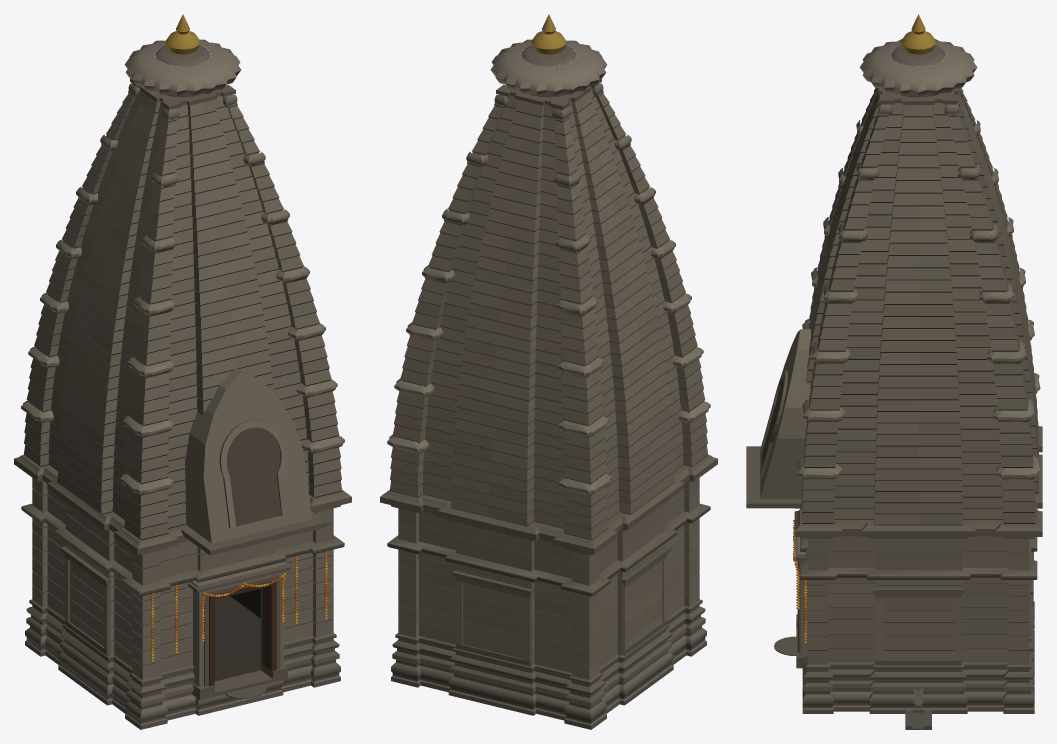
The model's file is shrine.glb.
3 views of the same model, side by side, from view 1: azimuth 30°, elevation 25°; view 2: azimuth 150°, elevation 25°; view 3: azimuth 270°, elevation 25° (orthographic).
Parts seen in each view (by area): view 1: shrine; view 2: shrine; view 3: shrine.
Boxes of the visible parts, bbox=[...] form: shrine: bbox=[14, 14, 351, 729]; shrine: bbox=[380, 14, 717, 729]; shrine: bbox=[746, 14, 1042, 729].
Bounding box in the file's own units: 6.23 × 16.1 × 6.64.
